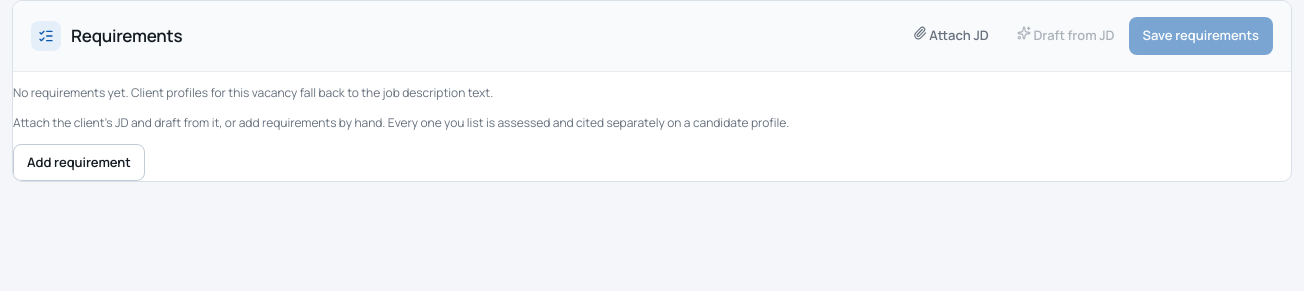
it: JobRequirementsPanel › adds and removes rows
Click the button "Add requirement" at {"x": 79, "y": 162}, box [13, 144, 145, 181]
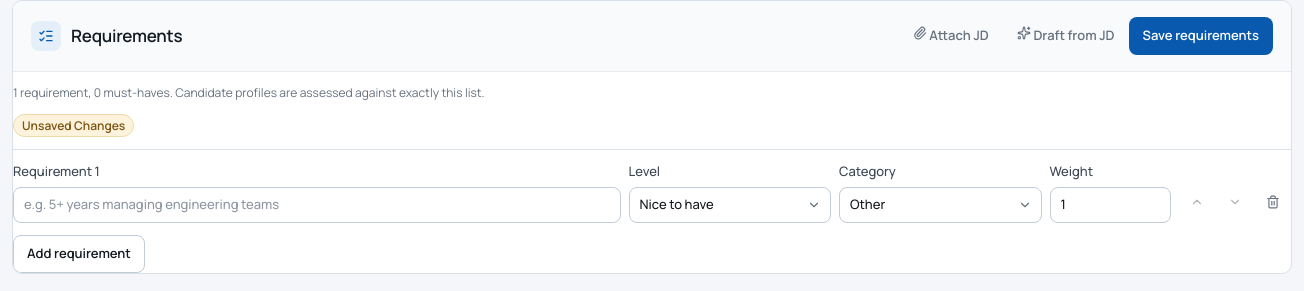
Now the field labelled "Requirement 1" is shown, box [13, 187, 620, 223]
Click the button named "Remove requirement 1" at {"x": 1273, "y": 205}, box [1255, 187, 1291, 223]
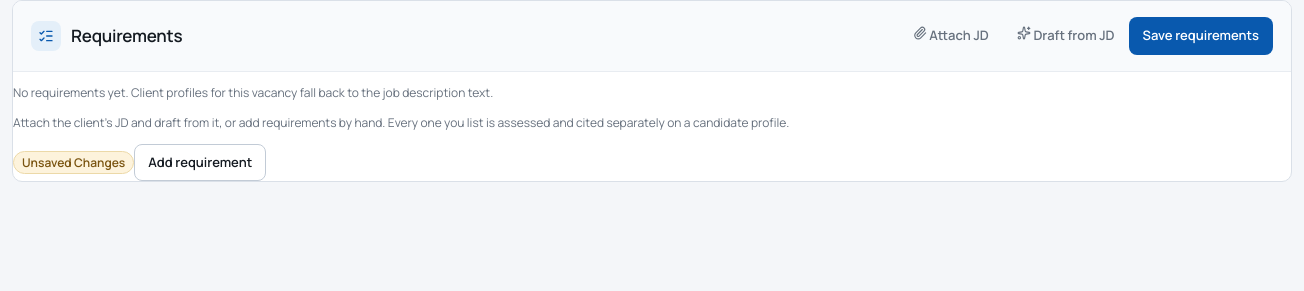
Now the text labelled "Requirement 1" is gone
